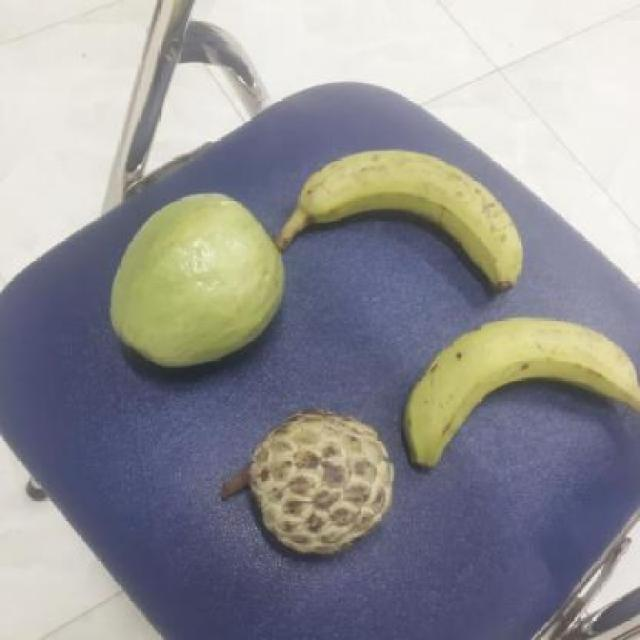banana: (400, 313, 640, 465), (269, 154, 514, 295)
guava: (104, 194, 284, 368)
sugar apple: (221, 407, 390, 556)
